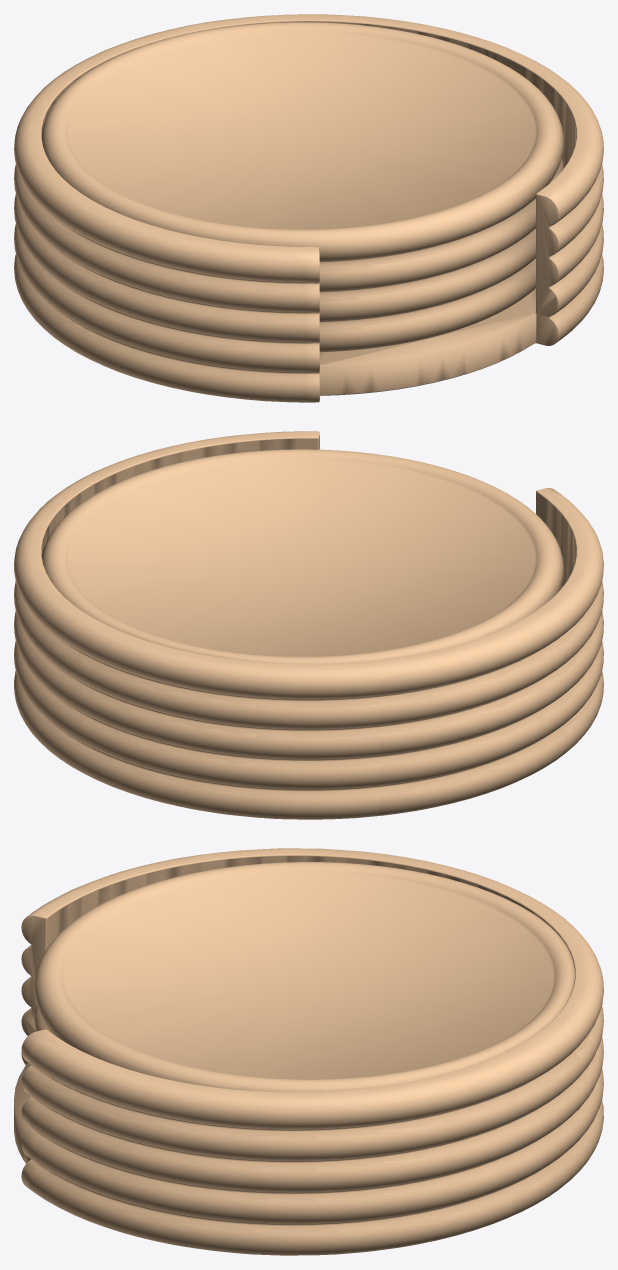
The model's file is bardak-altligi-seti.glb.
3 views of the same model, one above another, from view 1: azimuth 30°, elevation 25°; view 2: azimuth 150°, elevation 25°; view 3: azimuth 270°, elevation 25° (orthographic). The views are drawn at different scales.
Visible parts, largest first — view 1: Altliklar, Tepsi; view 2: Tepsi, Altliklar; view 3: Tepsi, Altliklar.
Boxes of the visible parts, <box> form: Altliklar: <box>41,22,563,352</box>; Tepsi: <box>14,14,603,402</box>; Tepsi: <box>14,431,603,819</box>; Altliklar: <box>41,449,563,663</box>; Tepsi: <box>14,848,603,1255</box>; Altliklar: <box>34,862,574,1092</box>.
Size of the model in its own units: 0.107 by 0.0302 by 0.102.
